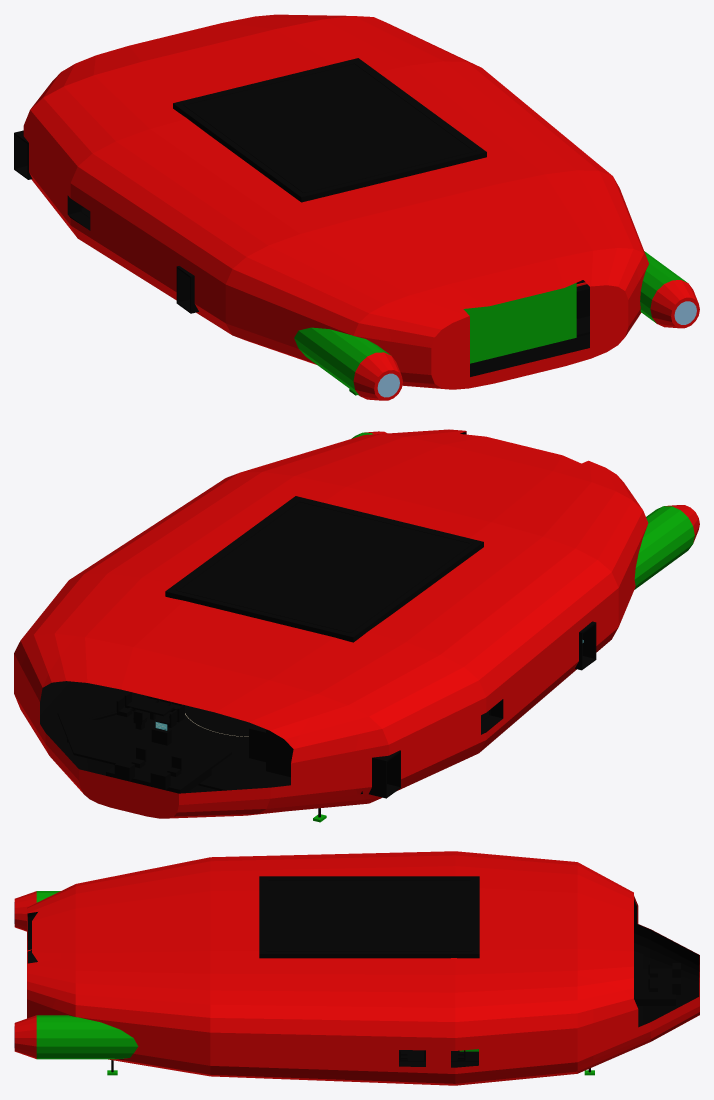
File: neptune3.glb
3 renders of one model, top to bottom at view 1: azimuth 30°, elevation 25°; view 2: azimuth 150°, elevation 25°; view 3: azimuth 270°, elevation 25°, orthographic. The views are drawn at different scales.
Visible parts, largest first — view 1: horizon_neptune3:oval_family_hull, horizon_neptune3:pad_Dorsal scout terrace, horizon_neptune3:cargo_ramp, horizon_neptune3:field_drive_0, horizon_neptune3:field_drive_1, horizon_neptune3:lineage_inner_shell, horizon_neptune3:n3_lock_passages; view 2: horizon_neptune3:oval_family_hull, horizon_neptune3:pad_Dorsal scout terrace, horizon_neptune3:neptune2_deck, horizon_neptune3:field_drive_0, horizon_neptune3:neptune2_cockpit, horizon_neptune3:lineage_inner_shell, horizon_neptune3:n3_flight_deck_floor, horizon_neptune3:n3_lock_passages, horizon_neptune3:neptune2_family_commons, horizon_neptune3:lineage_new_bulkheads, horizon_neptune3:neptune2_hub_lounge; view 3: horizon_neptune3:oval_family_hull, horizon_neptune3:pad_Dorsal scout terrace, horizon_neptune3:field_drive_1, horizon_neptune3:lineage_inner_shell, horizon_neptune3:neptune2_cockpit, horizon_neptune3:field_drive_0, horizon_neptune3:accommodation_floors.
Part boxes in pixels (x1,y1,x2,y2): horizon_neptune3:oval_family_hull: [23, 14, 648, 389]; horizon_neptune3:pad_Dorsal scout terrace: [173, 58, 486, 202]; horizon_neptune3:cargo_ramp: [463, 283, 576, 363]; horizon_neptune3:field_drive_0: [294, 327, 402, 400]; horizon_neptune3:field_drive_1: [640, 251, 699, 328]; horizon_neptune3:lineage_inner_shell: [470, 334, 589, 376]; horizon_neptune3:n3_lock_passages: [14, 130, 198, 313]; horizon_neptune3:oval_family_hull: [14, 429, 648, 818]; horizon_neptune3:pad_Dorsal scout terrace: [165, 496, 483, 642]; horizon_neptune3:neptune2_deck: [57, 681, 290, 790]; horizon_neptune3:field_drive_0: [634, 505, 699, 589]; horizon_neptune3:neptune2_cockpit: [106, 747, 211, 793]; horizon_neptune3:lineage_inner_shell: [40, 432, 466, 792]; horizon_neptune3:n3_flight_deck_floor: [127, 737, 231, 776]; horizon_neptune3:n3_lock_passages: [369, 621, 596, 798]; horizon_neptune3:neptune2_family_commons: [116, 692, 265, 761]; horizon_neptune3:lineage_new_bulkheads: [266, 729, 293, 777]; horizon_neptune3:neptune2_hub_lounge: [185, 705, 249, 736]; horizon_neptune3:oval_family_hull: [27, 851, 699, 1085]; horizon_neptune3:pad_Dorsal scout terrace: [259, 876, 479, 958]; horizon_neptune3:field_drive_1: [14, 1015, 138, 1059]; horizon_neptune3:lineage_inner_shell: [27, 900, 699, 1024]; horizon_neptune3:neptune2_cockpit: [634, 960, 680, 1005]; horizon_neptune3:field_drive_0: [14, 891, 60, 931]; horizon_neptune3:accommodation_floors: [399, 1050, 478, 1060].
Size of the model in its own units: 33.85 by 9.67 by 56.05.
